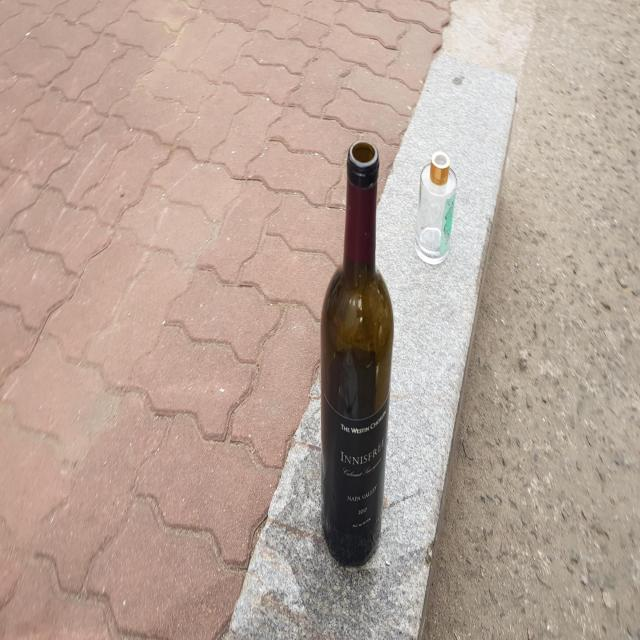glass: (321, 141, 394, 566), (416, 150, 458, 263)
